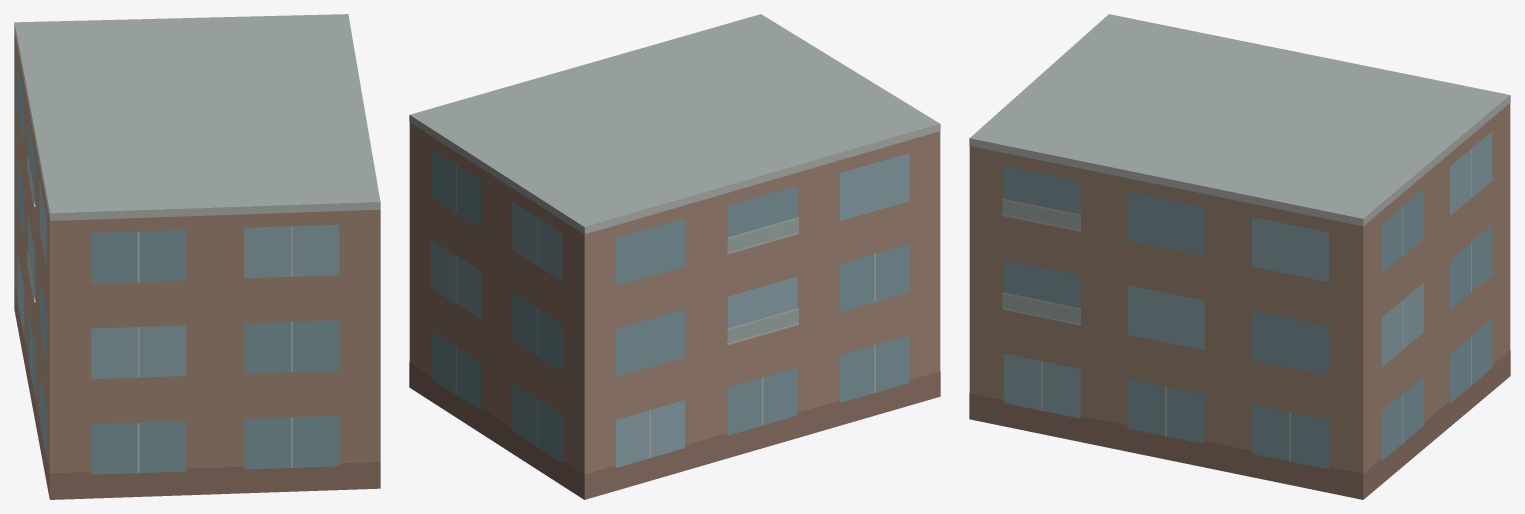
Rendered from survey-upis-32720690.glb.
3 views of the same model, side by side, from view 1: azimuth 30°, elevation 25°; view 2: azimuth 150°, elevation 25°; view 3: azimuth 270°, elevation 25° (orthographic). The views are drawn at different scales.
Parts seen in each view (by area): view 1: survey-upis-32720690.tmp; view 2: survey-upis-32720690.tmp; view 3: survey-upis-32720690.tmp.
Boxes of the visible parts, x1=… form: survey-upis-32720690.tmp: x1=14, y1=14, x2=380, y2=499; survey-upis-32720690.tmp: x1=409, y1=14, x2=940, y2=499; survey-upis-32720690.tmp: x1=969, y1=14, x2=1510, y2=499.
Size of the model in its own units: 14.32 by 9.15 by 15.98.
